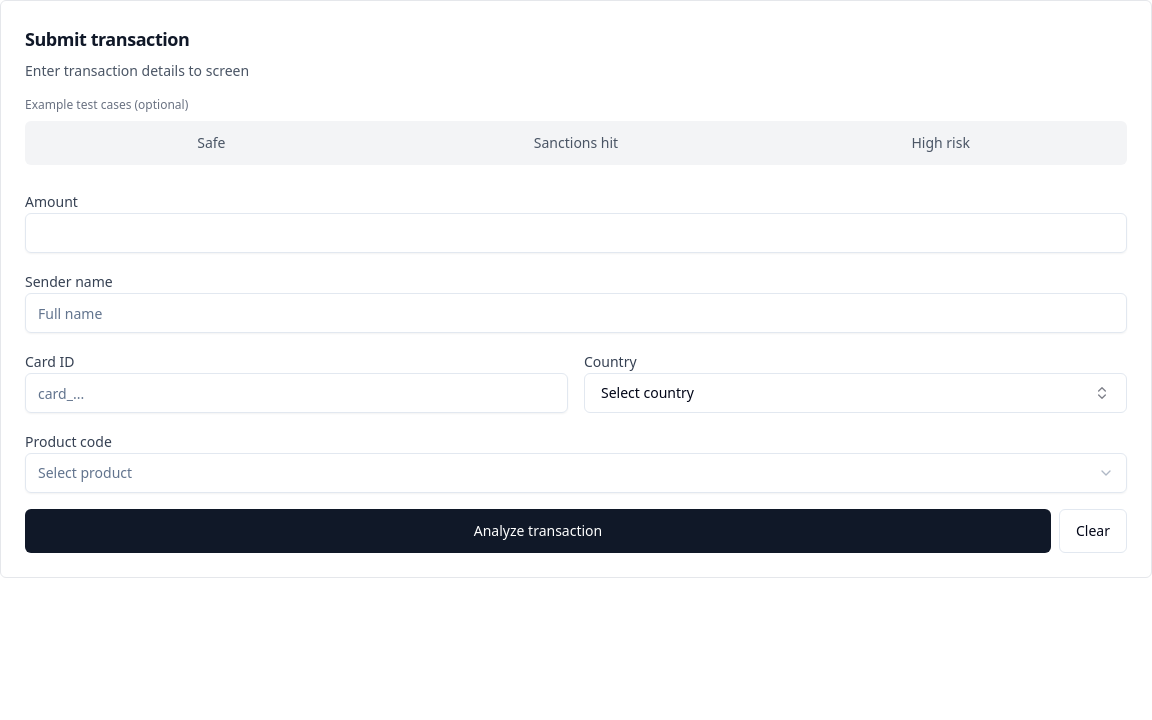
Test: TransactionForm › Preset Tabs › fills form with High Risk preset values when High Risk tab is clicked
This screenshot has width=1152, height=720.
Step 1. Click the tab "High risk" → coordinates (941, 143), box [758,125,1123,161]
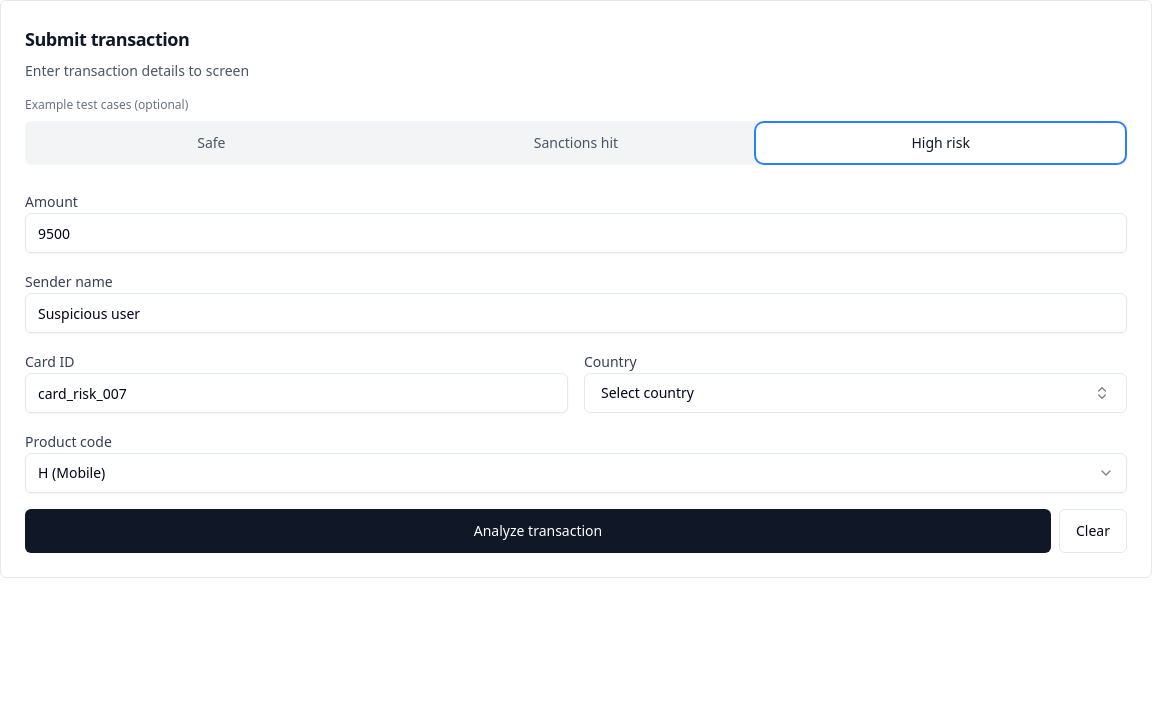
Now the number field labelled "Amount" holds "9500", box [25,213,1127,253]
Now the field labelled "Sender name" holds "Suspicious user", box [25,293,1127,333]
Now the field labelled "Card ID" holds "card_risk_007", box [25,373,568,413]
